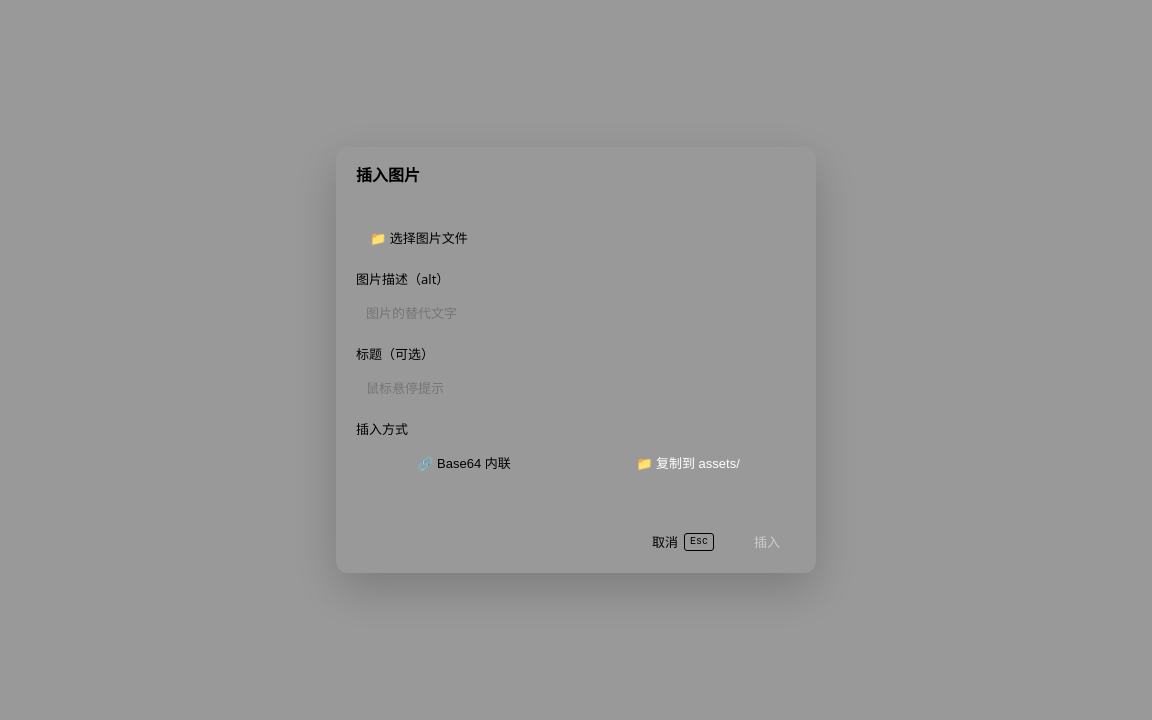
Test: <ImageInsertDialog /> › 大图（>2MB）显示警告
Click the button "📁 选择图片文件": (419, 238) [356,220,482,255]
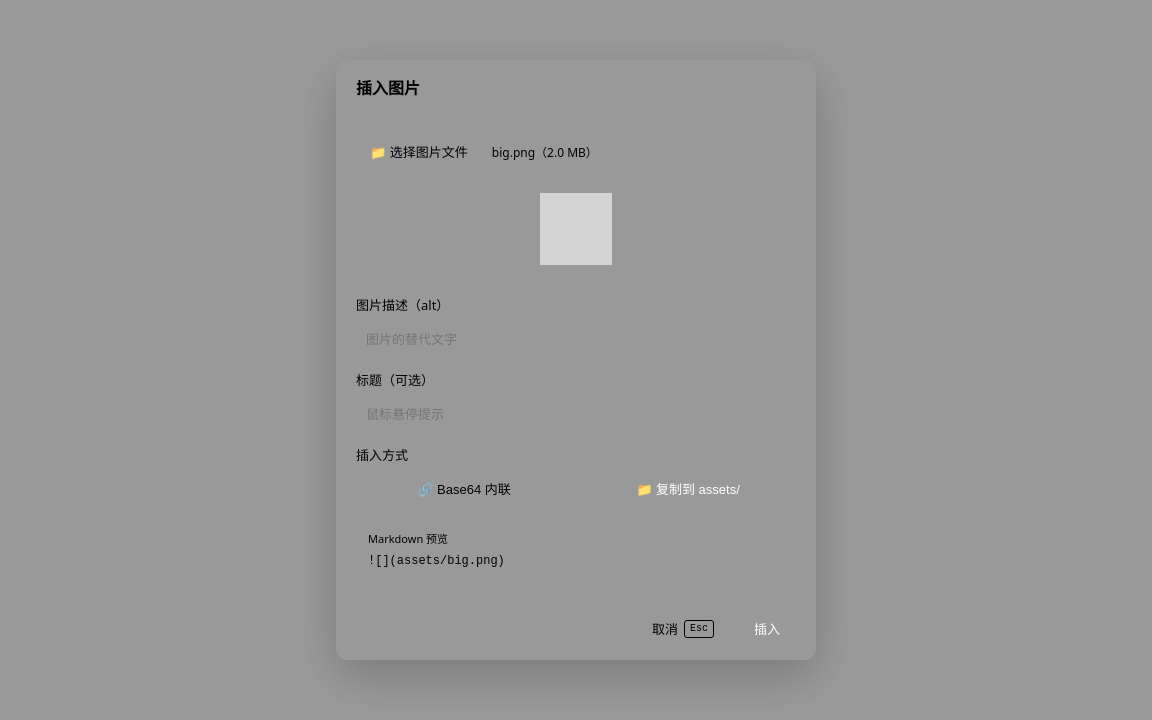
Now the text "big.png（2.0 MB）" is shown, box [492,144,598,160]
Note: 大图警告仅在 Base64 模式下显示（assets 模式下不内联，无体积膨胀问题）
Click the button "🔗 Base64 内联": (464, 489) [356,471,572,506]
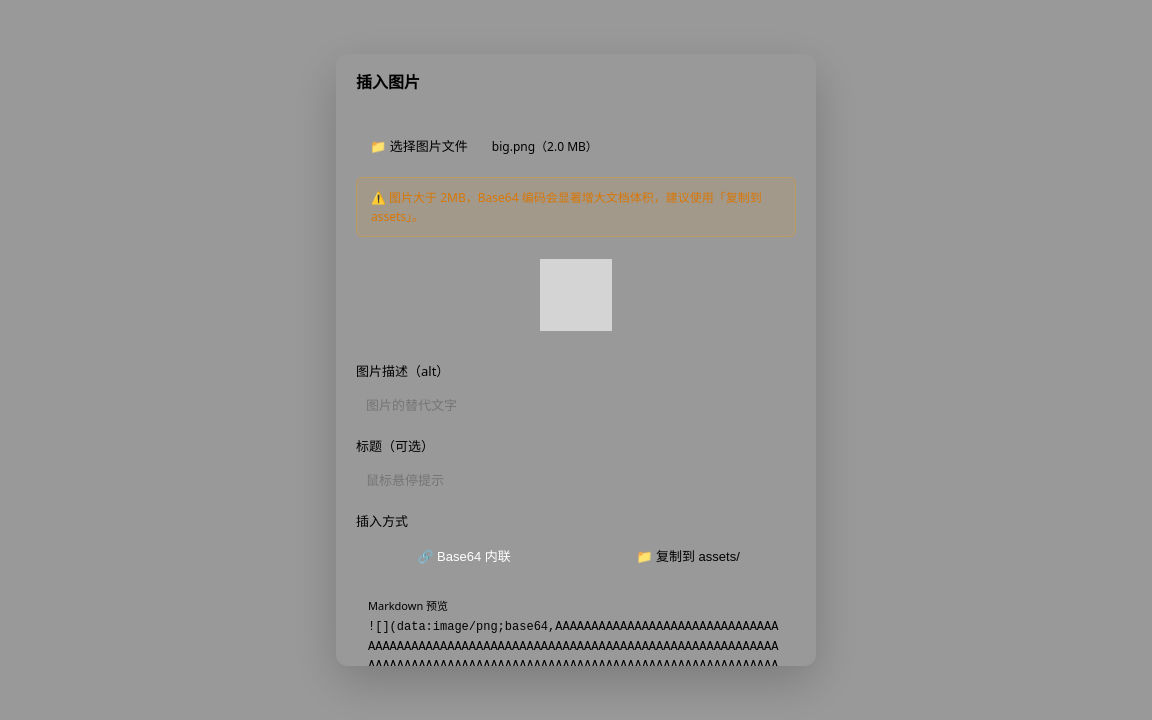
Now the text "⚠️ 图片大于 2MB，Base64 编码会显著增大文档体积，建议使用「复制到 assets」。" is shown, box [356,177,796,237]
